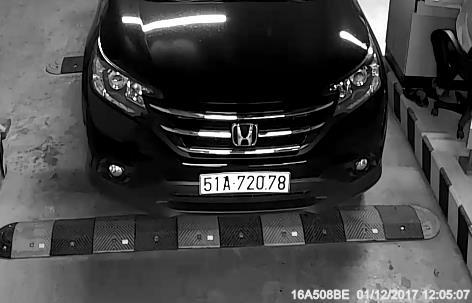License-plate: (197, 168, 293, 205)
